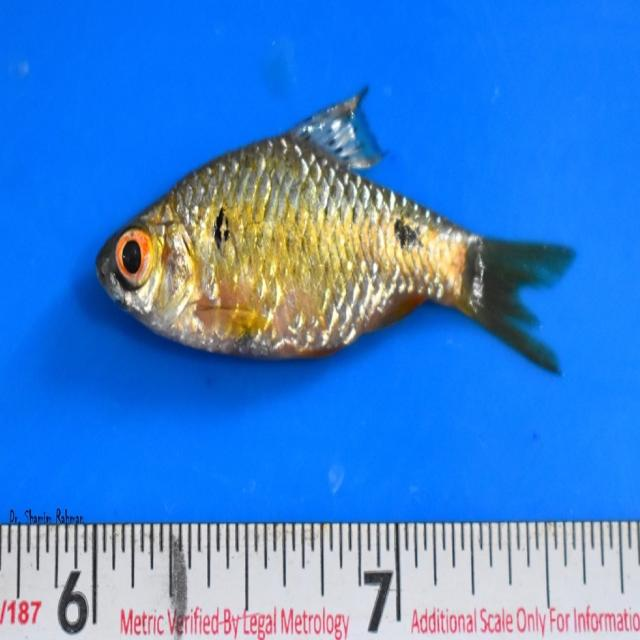Black-Spotted-Barb: (83, 68, 595, 394)
